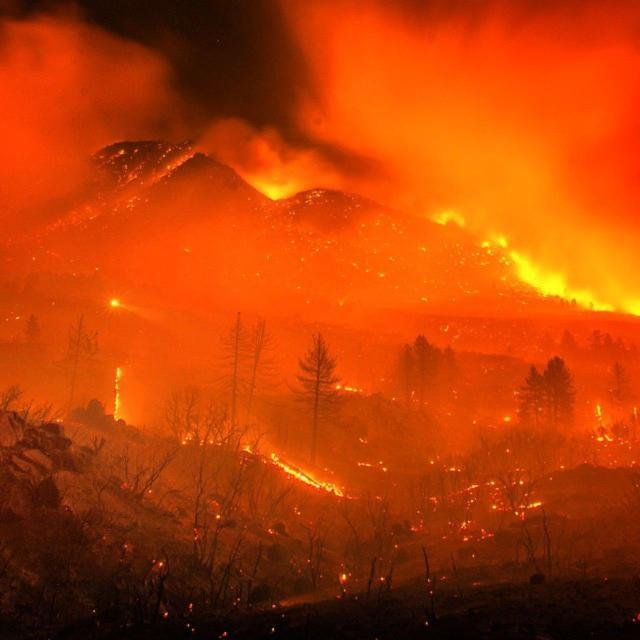Fire: (112, 354, 352, 504), (430, 208, 640, 323), (244, 170, 308, 204)
Smoke: (1, 22, 226, 300), (292, 9, 640, 163)
